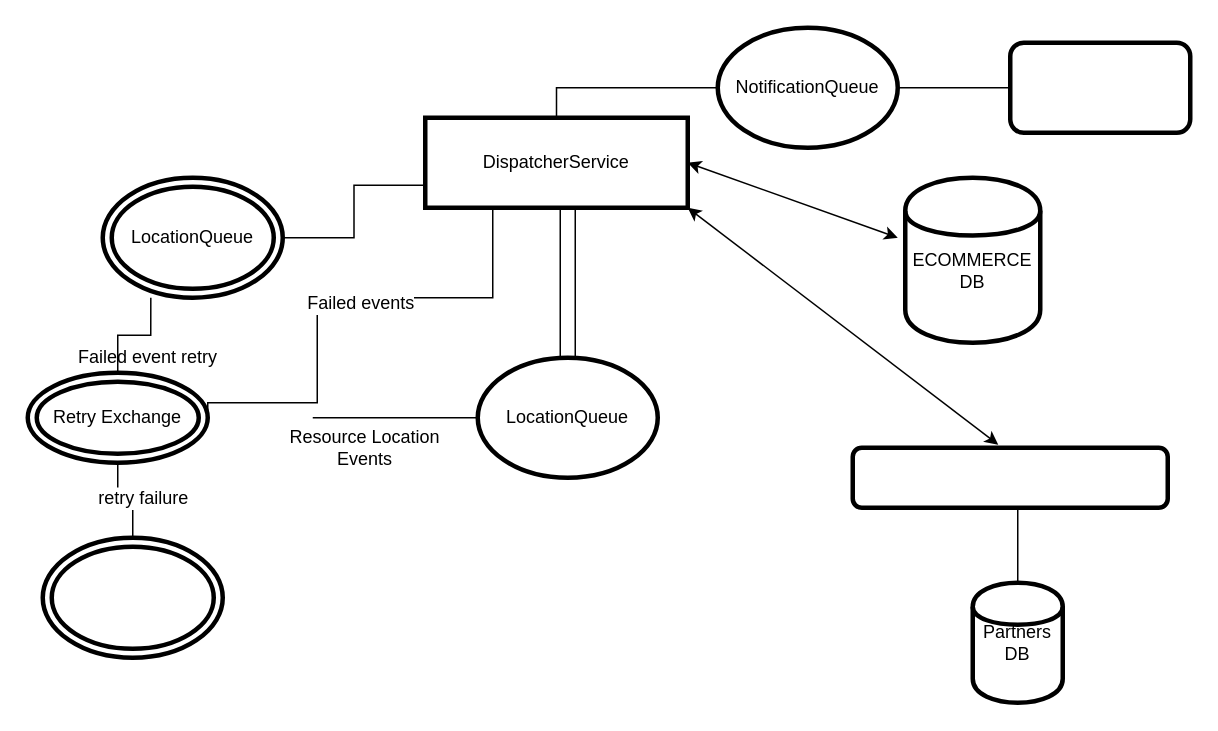
Image size: 1218x731. Some labels were removed from this diagram. Each missing label, with the centre of its shape:
Dead Queue: point (132, 597)
Notification Service: point (1099, 87)
PartnerManagementService: point (1009, 477)
